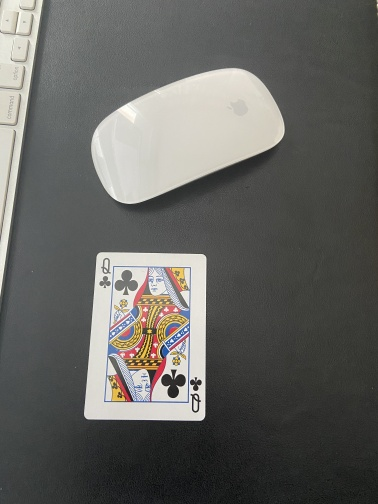queen: (83, 251, 208, 422)
